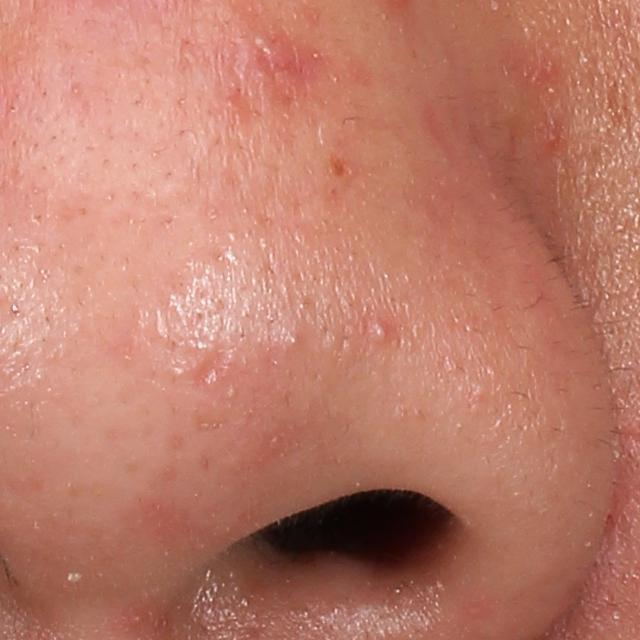atrophic_scar: (184, 346, 232, 392)
comedo: (365, 319, 394, 345), (278, 325, 303, 350)
